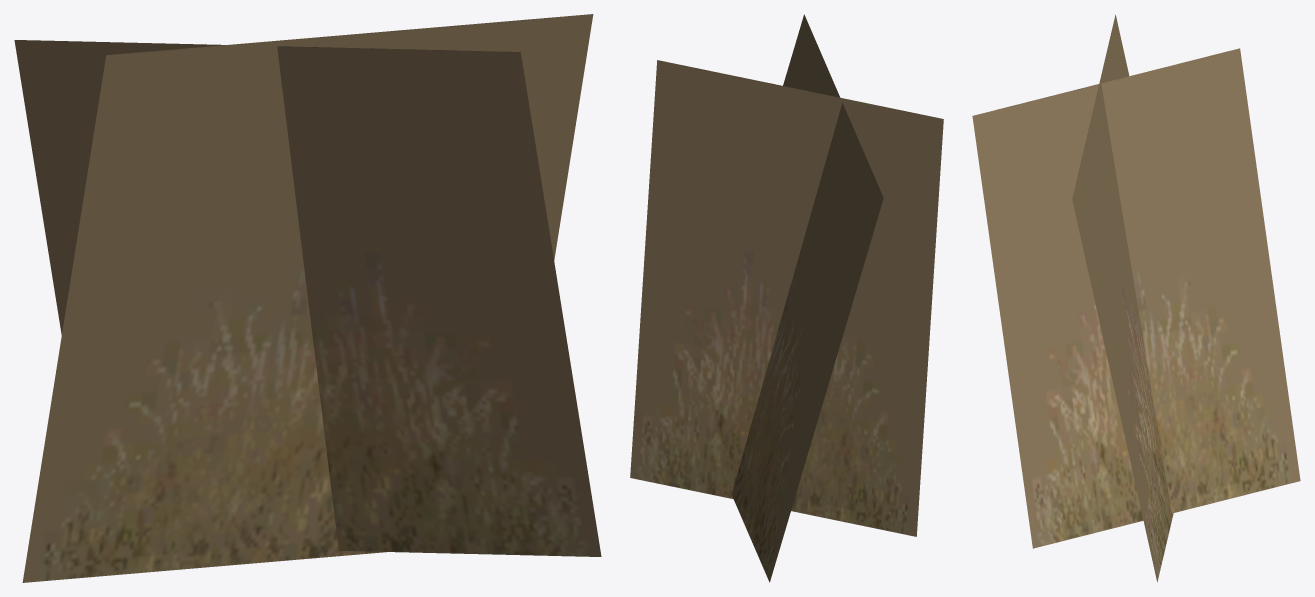
File: reed_beach_b.glb
3 renders of one model, left to right at view 1: azimuth 30°, elevation 25°; view 2: azimuth 150°, elevation 25°; view 3: azimuth 270°, elevation 25°, orthographic. The views are drawn at different scales.
Size of the model in its own units: 5.15 by 6.41 by 4.45.
Materials: 1 (1 with a texture image).
